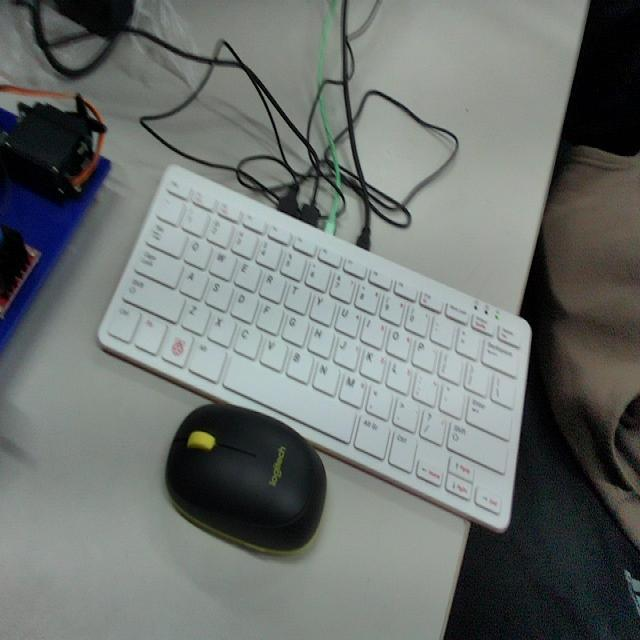keyboard: (100, 167, 531, 518)
